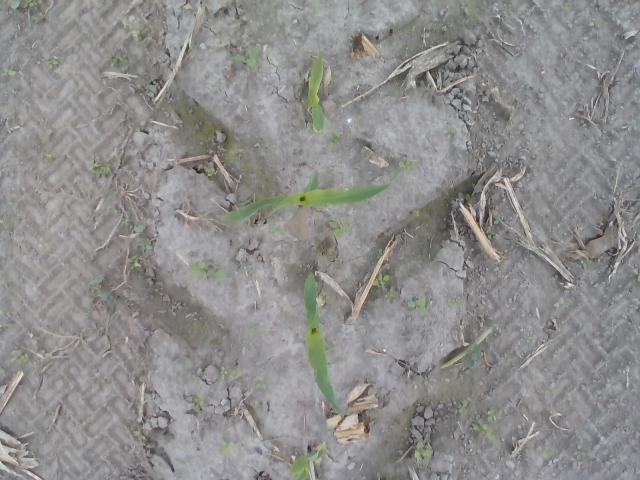Maize: (226, 170, 392, 224), (302, 271, 343, 411), (308, 54, 328, 132), (286, 446, 326, 480)
Weeds: (470, 406, 499, 442), (6, 0, 49, 24), (230, 46, 262, 74), (182, 258, 225, 278), (84, 288, 112, 314), (326, 216, 352, 241), (388, 158, 418, 177), (406, 296, 431, 316), (326, 126, 344, 153), (414, 441, 433, 465), (88, 160, 113, 177), (464, 344, 480, 368), (266, 222, 288, 238), (42, 54, 59, 72), (219, 367, 242, 380), (222, 440, 240, 456), (373, 272, 391, 288), (127, 255, 143, 272), (191, 392, 207, 408), (110, 50, 128, 64), (15, 351, 32, 365), (0, 66, 16, 80), (132, 430, 148, 443), (255, 374, 268, 390), (46, 148, 58, 165), (130, 28, 144, 42), (590, 17, 606, 28), (484, 227, 496, 240), (558, 296, 574, 305), (308, 2, 320, 14), (560, 0, 572, 12), (578, 260, 592, 270), (320, 291, 330, 305), (134, 223, 146, 234), (143, 238, 153, 251), (543, 448, 553, 460), (447, 298, 463, 305), (249, 322, 257, 336), (383, 292, 394, 302), (494, 215, 504, 226), (456, 403, 464, 416), (206, 168, 218, 176), (412, 207, 421, 217), (574, 451, 584, 460), (8, 110, 16, 121), (32, 334, 40, 344), (464, 192, 472, 201), (448, 128, 457, 136), (634, 271, 640, 283), (0, 368, 7, 378), (120, 218, 128, 224), (377, 248, 383, 256)
